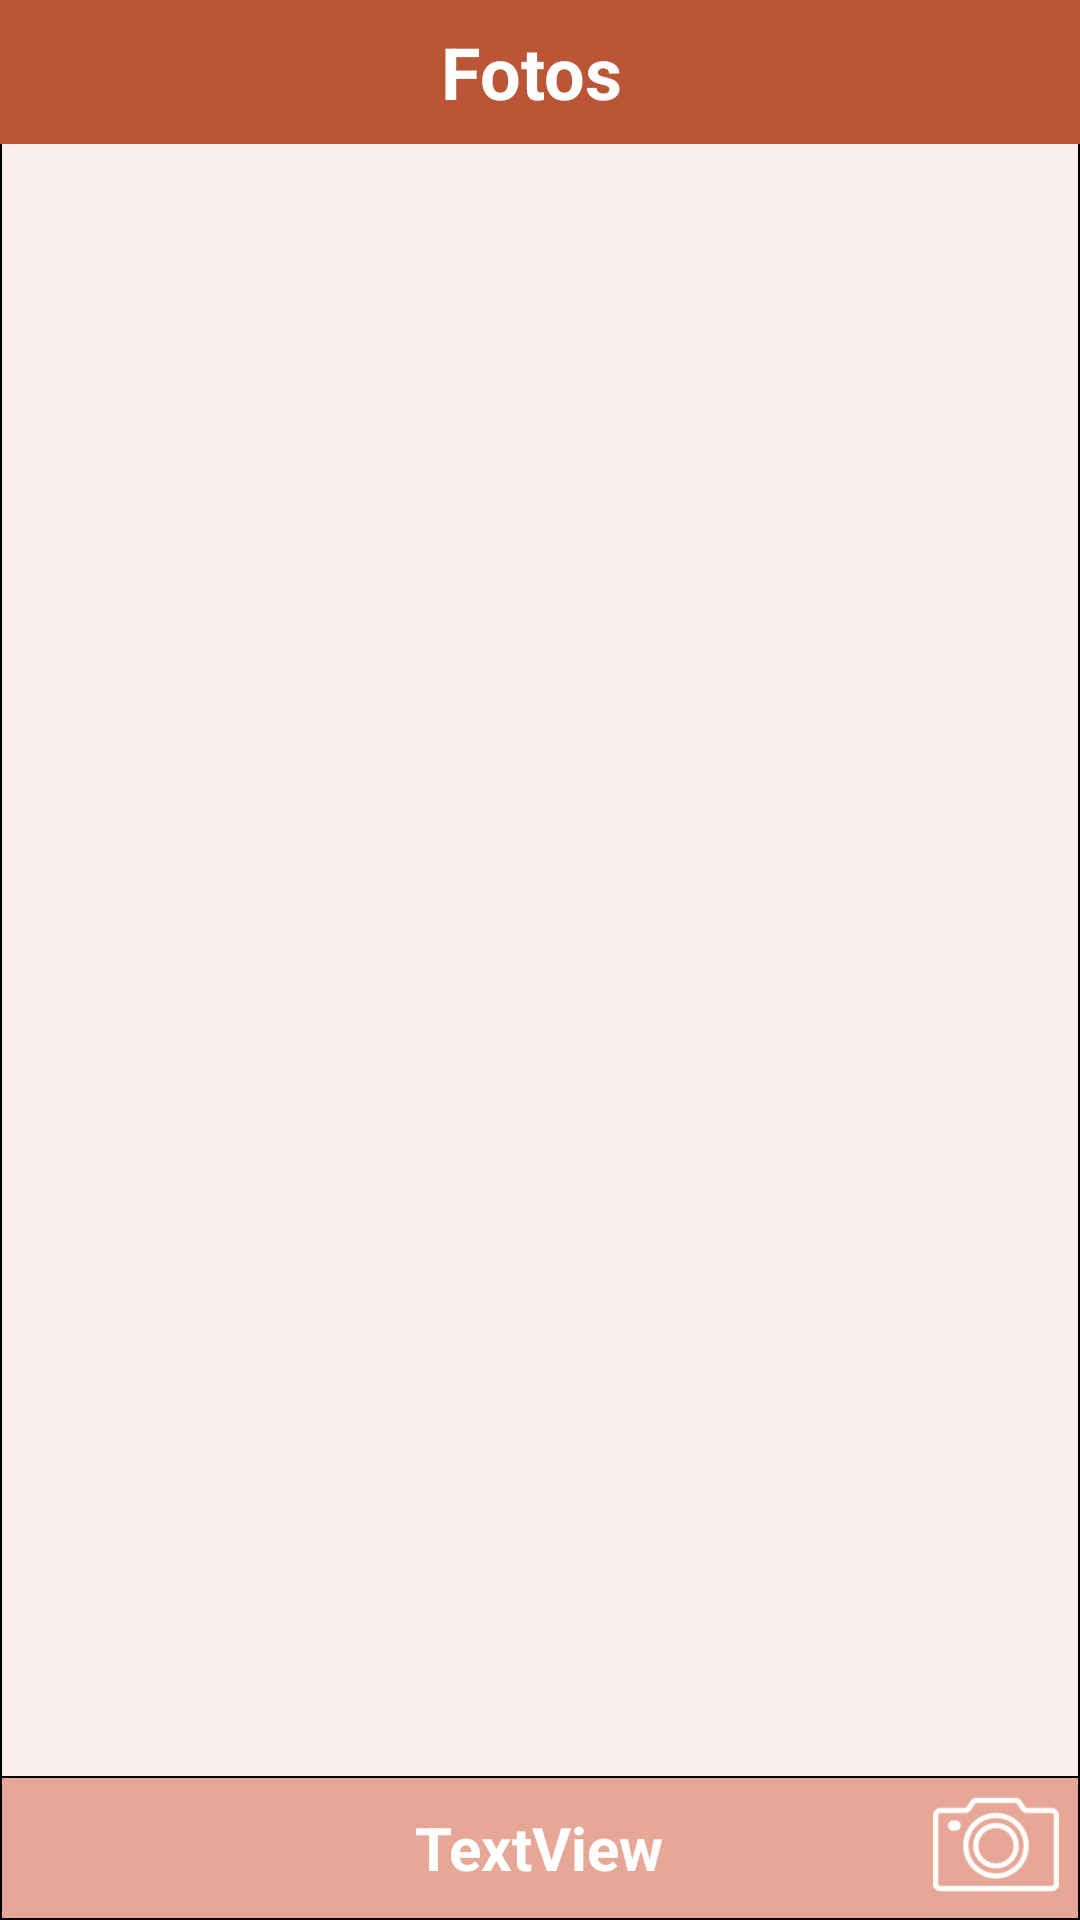

Icon click points for this 1080px x 1920px phone screenshot, format point (x, y):
photo: point (996, 1848)
